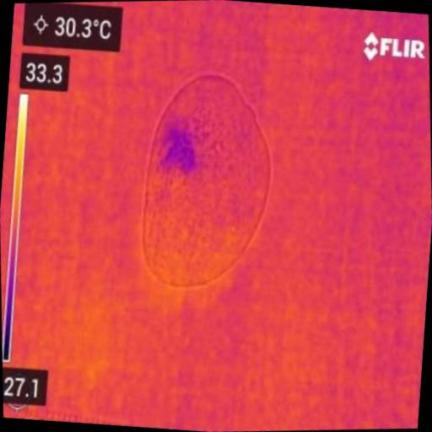mango: (142, 75, 271, 286)
